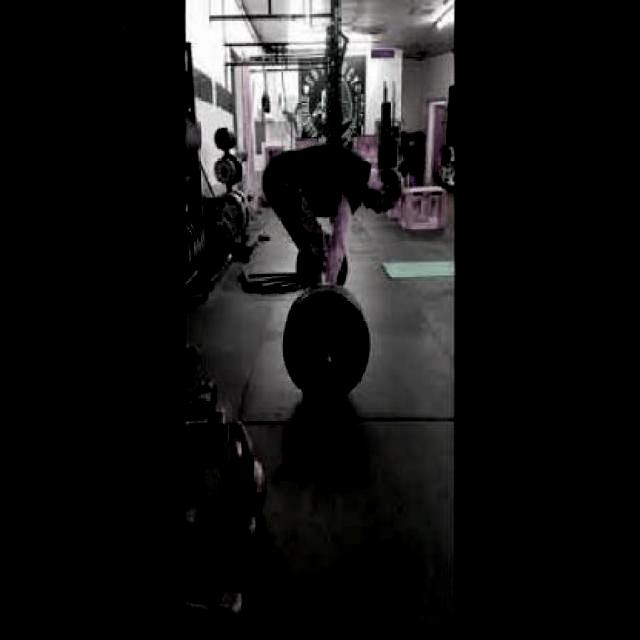barbell: (280, 287, 375, 402)
